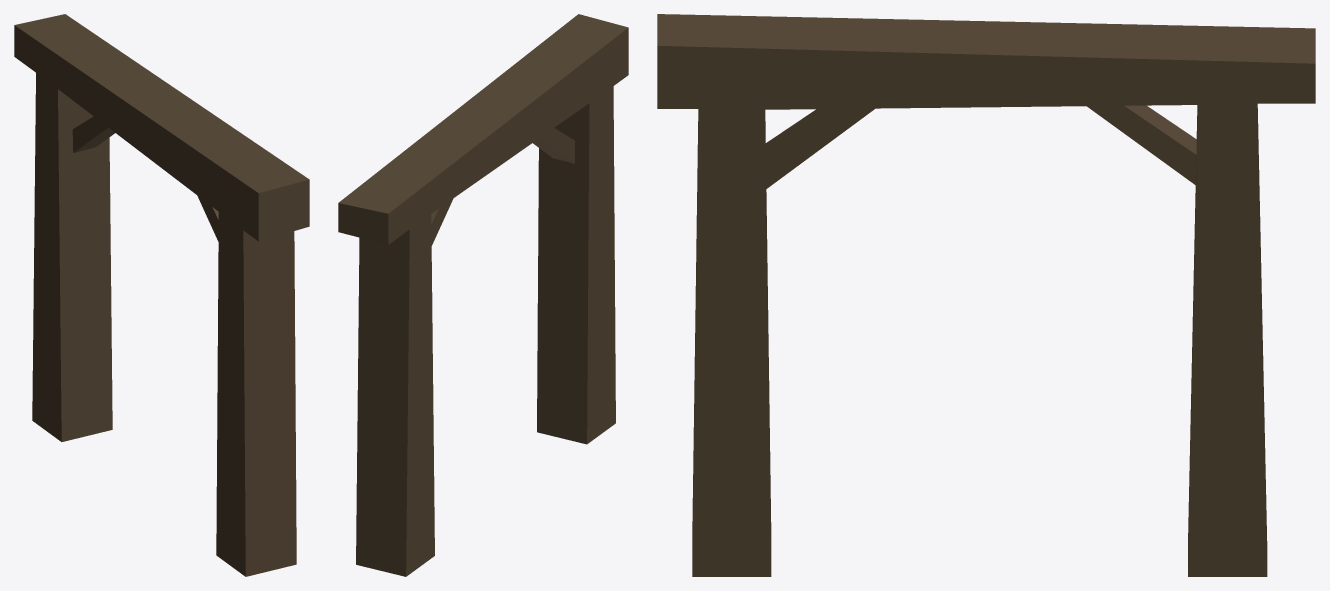
The model's file is MineFrame05.fbx.
3 renders of one model, left to right at view 1: azimuth 30°, elevation 25°; view 2: azimuth 150°, elevation 25°; view 3: azimuth 270°, elevation 25°, orthographic. The views are drawn at different scales.
Parts seen in each view (by area): view 1: MineFrame05; view 2: MineFrame05; view 3: MineFrame05.
Part boxes in pixels (x1,y1,x2,y2): MineFrame05: [14, 14, 309, 576]; MineFrame05: [338, 14, 628, 576]; MineFrame05: [657, 14, 1315, 576].
Bounding box in the file's own units: 419 × 373 × 50.42.
